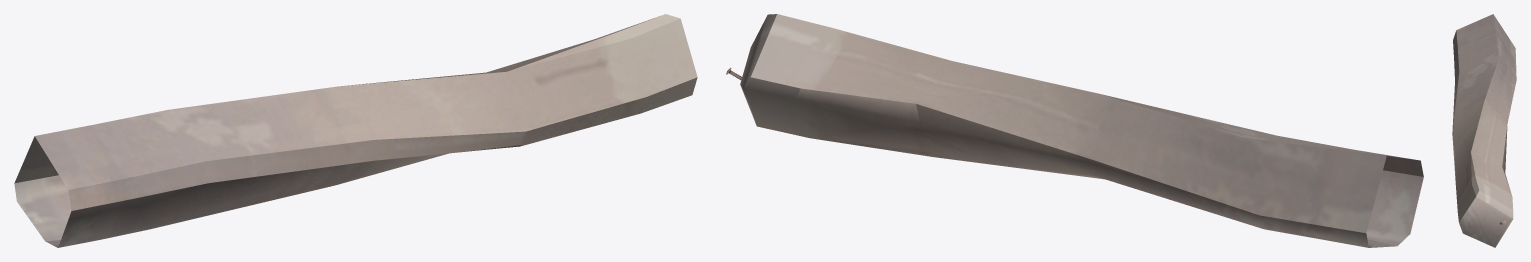
The model's file is props_mining_barbfence002_reference.glb.
3 renders of one model, left to right at view 1: azimuth 30°, elevation 25°; view 2: azimuth 150°, elevation 25°; view 3: azimuth 270°, elevation 25°, orthographic. The views are drawn at different scales.
Visible parts, largest first — view 1: models/props_mining/barbfence002_reference; view 2: models/props_mining/barbfence002_reference; view 3: models/props_mining/barbfence002_reference.
Boxes of the visible parts, x1,y1,x2,y2 form: models/props_mining/barbfence002_reference: (14, 14, 697, 247); models/props_mining/barbfence002_reference: (726, 14, 1423, 247); models/props_mining/barbfence002_reference: (1452, 14, 1516, 247).
Bounding box in the file's own units: 65.15 × 11.74 × 10.22.
Materials: 1 (1 with a texture image).
